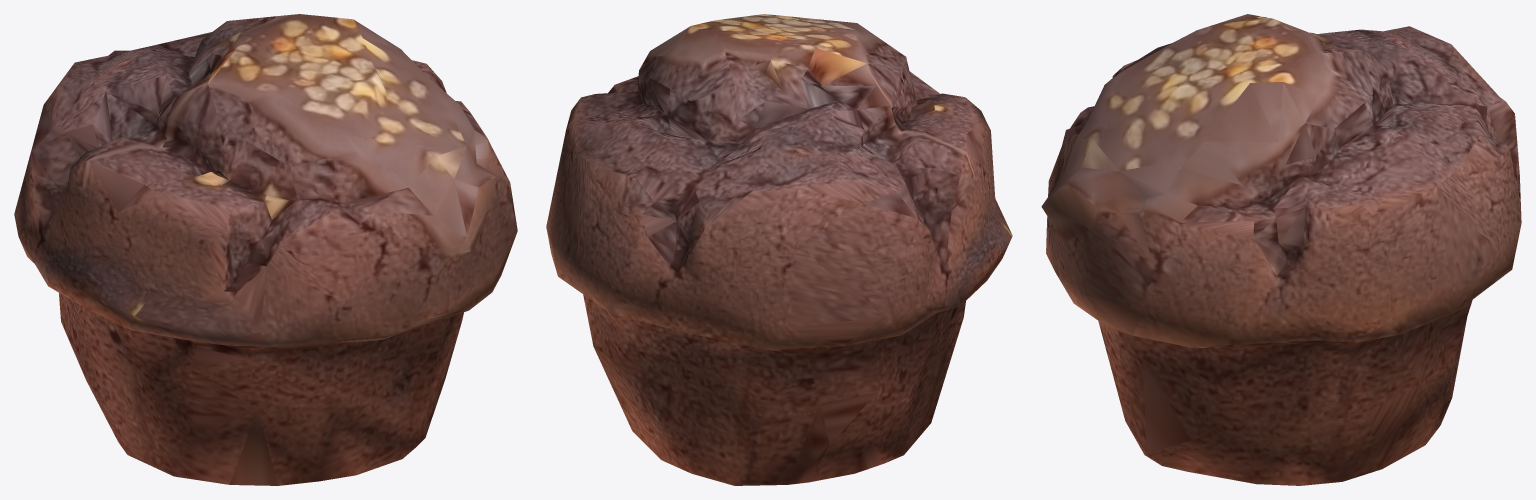
Rendered from muffin_596.obj.
The picture shows the model from 3 angles, left to right: view 1: azimuth 30°, elevation 25°; view 2: azimuth 150°, elevation 25°; view 3: azimuth 270°, elevation 25°; orthographic projection. The views are drawn at different scales.
Size of the model in its own units: 14.26 by 12.91 by 14.38.
Materials: 1 (1 with a texture image).
